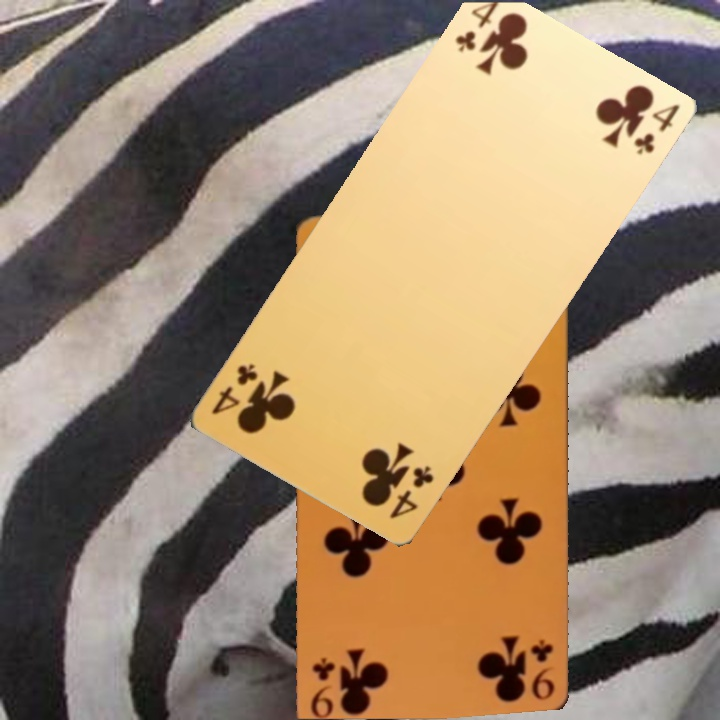4c: (380, 457, 444, 533), (201, 354, 265, 430), (620, 94, 684, 170)
9c: (308, 642, 336, 717), (528, 625, 555, 700)
